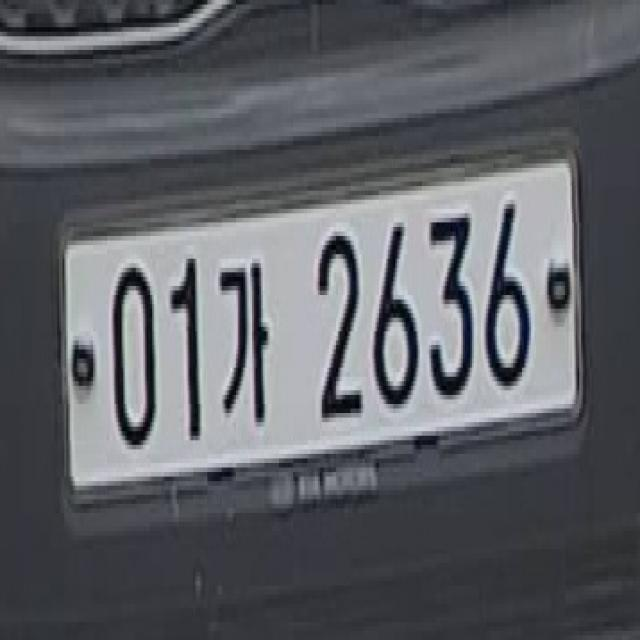0: (111, 248, 158, 460)
1: (168, 243, 206, 463)
2: (312, 210, 368, 434)
3: (425, 194, 480, 412)
6: (484, 180, 536, 408), (370, 198, 422, 418)
ga: (214, 242, 274, 440)
license_plate: (53, 109, 595, 535)
